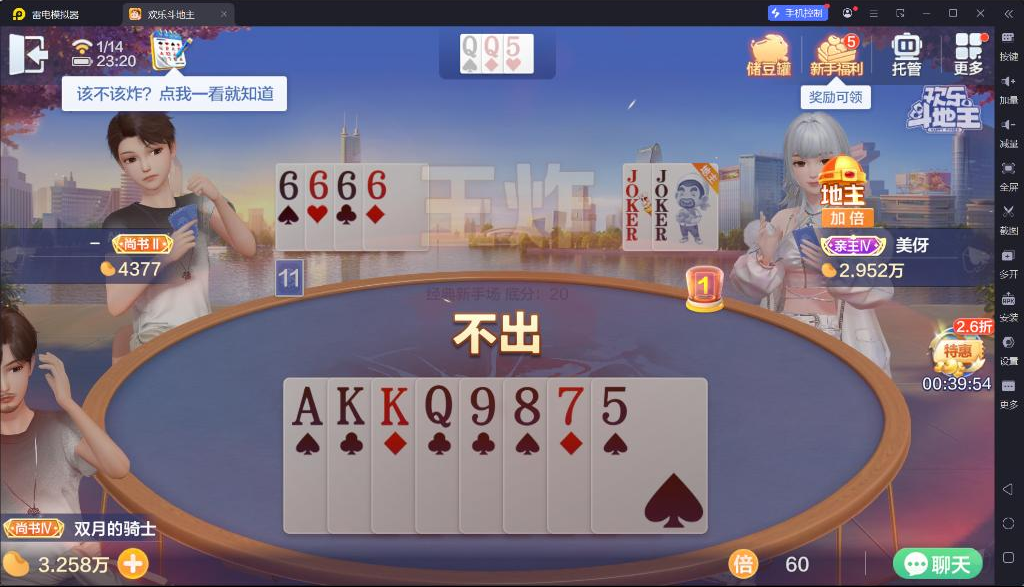A: (289, 383, 325, 429)
JOKER: (625, 165, 641, 216)
K: (375, 384, 413, 430), (333, 382, 369, 430)
Q: (420, 384, 455, 430), (461, 34, 479, 59), (483, 34, 500, 59)
eight: (511, 384, 542, 427)
five: (599, 383, 631, 427), (505, 35, 522, 57)
joker: (654, 168, 672, 217)
nine: (465, 384, 498, 428)
seven: (554, 384, 586, 427)
six: (276, 169, 300, 202), (365, 169, 389, 202), (307, 169, 330, 201), (337, 169, 360, 201)
